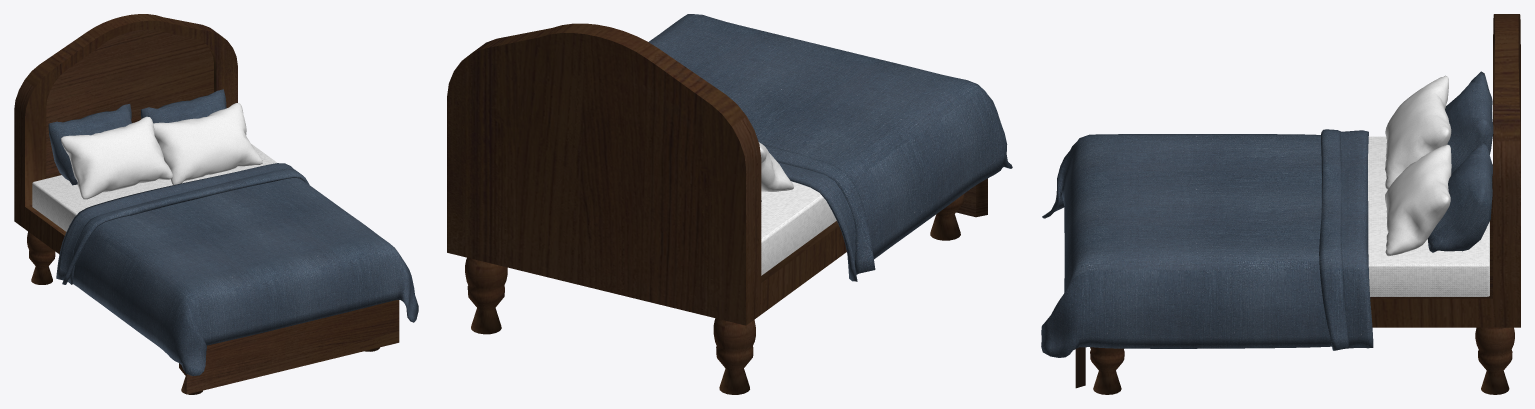
The model's file is Bed.glb.
The picture shows the model from 3 angles, left to right: view 1: azimuth 30°, elevation 25°; view 2: azimuth 150°, elevation 25°; view 3: azimuth 270°, elevation 25°; orthographic projection. The views are drawn at different scales.
Parts seen in each view (by area): view 1: Bed 01, Base.001, Pillow.002, Pillow.003, Pillow.001, Pillow; view 2: Base.001, Bed 01, Pillow.002; view 3: Bed 01, Base.001, Pillow.003, Pillow, Pillow.002, Pillow.001.
Boxes of the visible parts, <box> form: Bed 01: <box>56,163,418,375</box>; Base.001: <box>14,14,399,394</box>; Pillow.002: <box>61,116,172,199</box>; Pillow.003: <box>153,103,262,184</box>; Pillow.001: <box>48,104,131,185</box>; Pillow: <box>141,89,226,123</box>; Base.001: <box>447,23,987,394</box>; Bed 01: <box>648,14,1012,281</box>; Pillow.002: <box>758,142,793,191</box>; Bed 01: <box>1041,129,1373,357</box>; Base.001: <box>1075,14,1520,394</box>; Pillow.003: <box>1385,144,1451,256</box>; Pillow: <box>1427,142,1492,252</box>; Pillow.002: <box>1385,75,1451,189</box>; Pillow.001: <box>1445,71,1493,173</box>.
Bounding box in the file's own units: 1.28 × 1.13 × 1.61.
4 materials, 4 textured.
